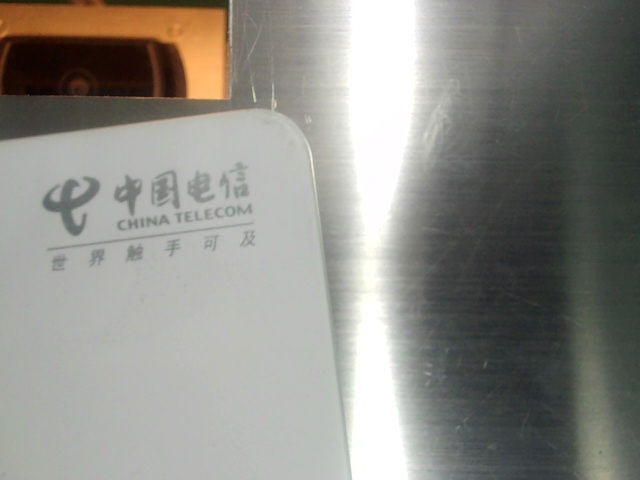AB_ChinaTelecom: (23, 165, 277, 277)
